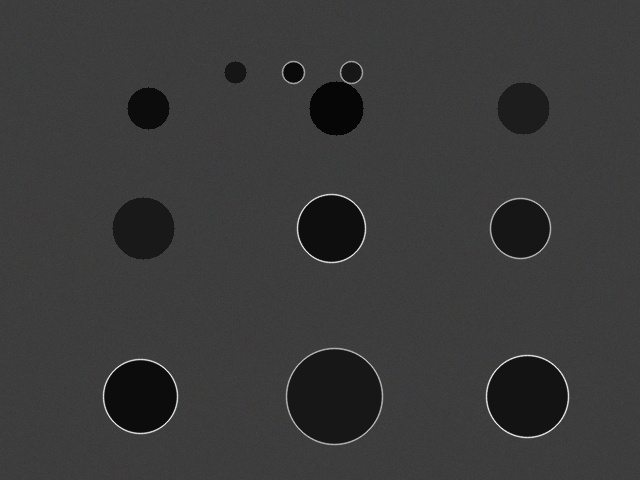hole: (286, 348, 382, 444), (486, 355, 568, 437), (103, 359, 177, 433), (297, 194, 365, 262), (112, 197, 174, 259), (490, 198, 550, 258), (309, 81, 363, 135), (497, 82, 549, 134), (127, 87, 169, 129), (224, 61, 246, 83), (282, 61, 304, 83), (340, 61, 362, 83)
